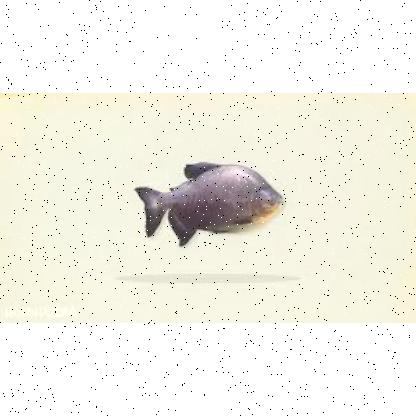ikan-pacu: (136, 158, 284, 242)
